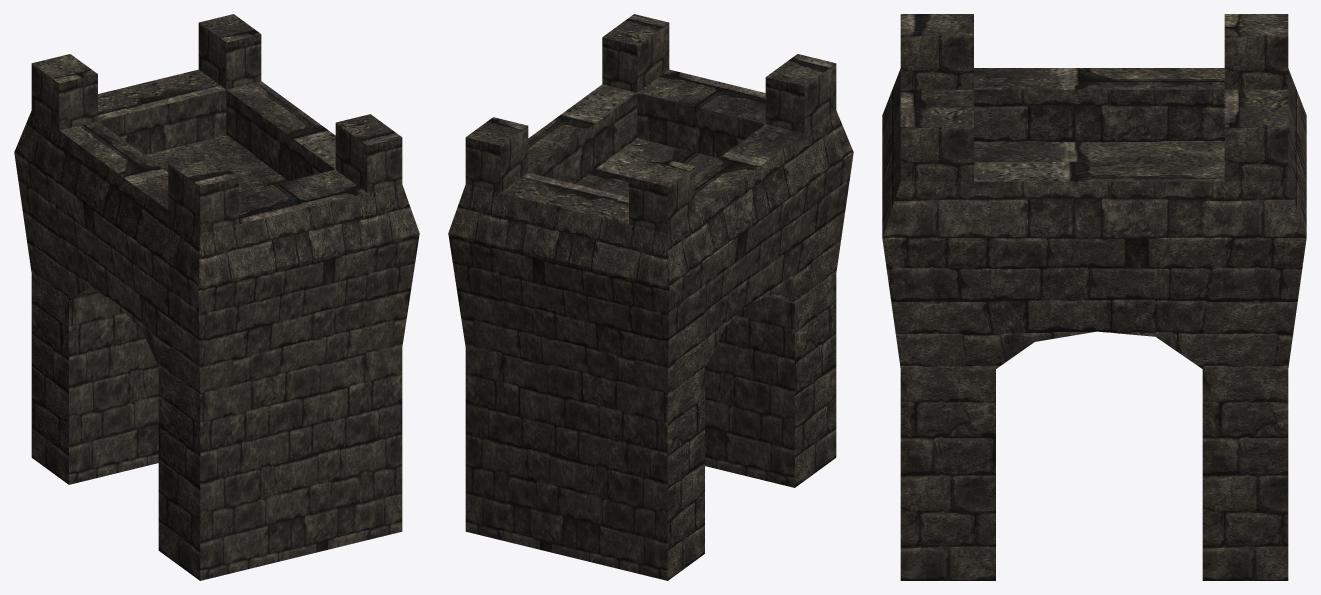
File: Rampant_Top_Structure.fbx
The picture shows the model from 3 angles, left to right: view 1: azimuth 30°, elevation 25°; view 2: azimuth 150°, elevation 25°; view 3: azimuth 270°, elevation 25°; orthographic projection. The views are drawn at different scales.
Visible parts, largest first — view 1: WallPart2; view 2: WallPart2; view 3: WallPart2.
Boxes of the visible parts, x1,y1,x2,y2 form: WallPart2: [14, 14, 419, 580]; WallPart2: [448, 14, 853, 580]; WallPart2: [882, 14, 1306, 580].
Size of the model in its own units: 6.6 by 11.25 by 9.53.
1 material, 1 textured.
